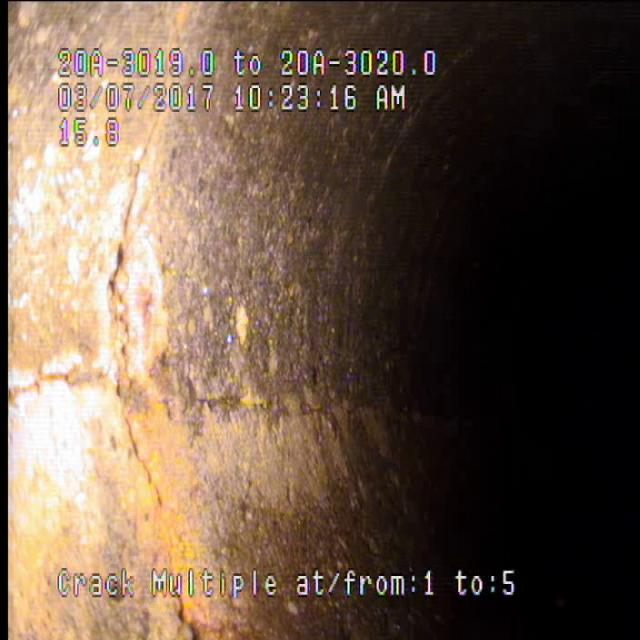Crack: (65, 176, 226, 570)
